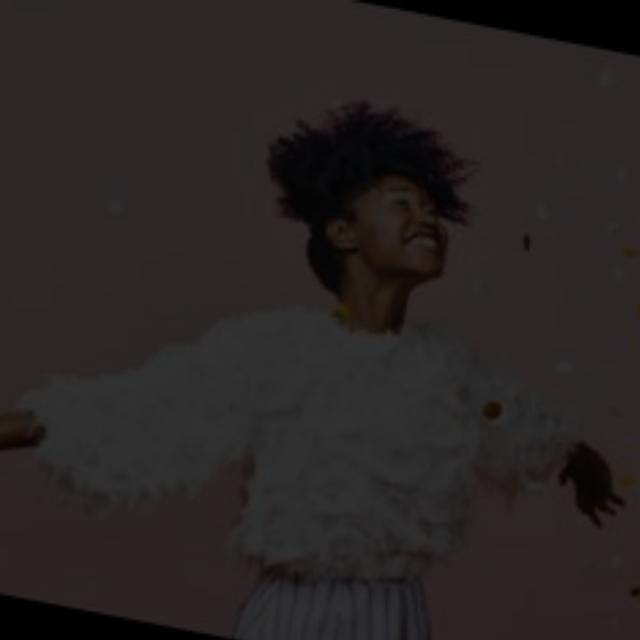Happy: (240, 109, 476, 338)
